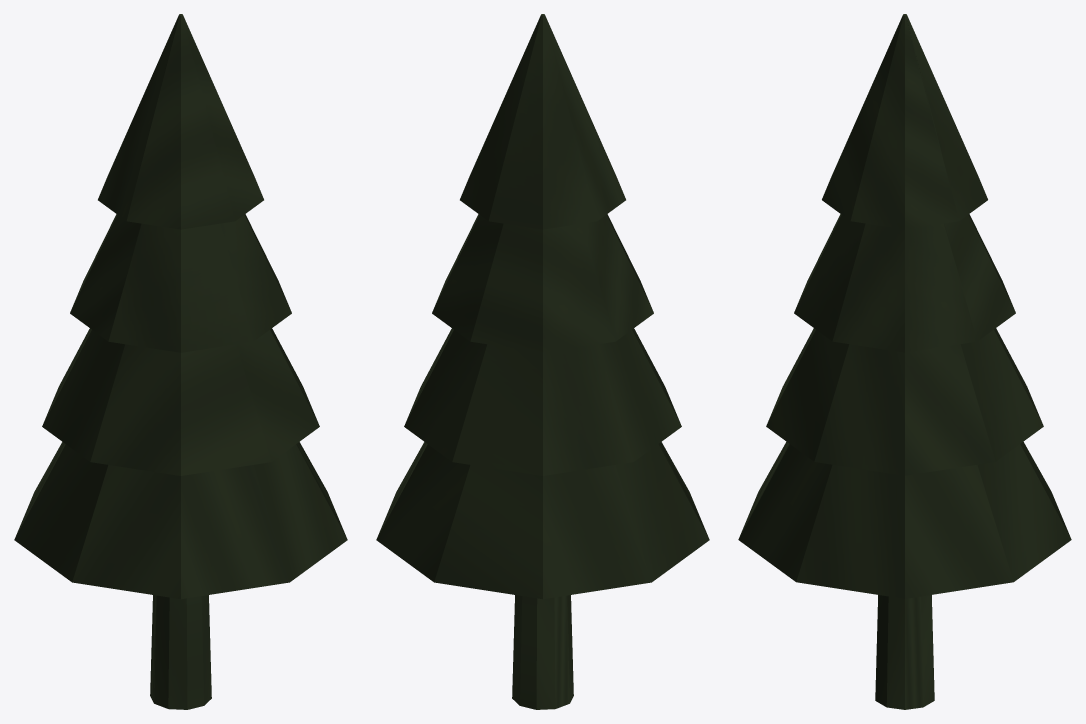
The model's file is prop_fallen_pine_log_a.glb.
The picture shows the model from 3 angles, left to right: view 1: azimuth 30°, elevation 25°; view 2: azimuth 150°, elevation 25°; view 3: azimuth 270°, elevation 25°; orthographic projection.
Visible parts, largest first — view 1: prop_fallen_pine_log_a; view 2: prop_fallen_pine_log_a; view 3: prop_fallen_pine_log_a.
Part boxes in pixels (x1,y1,x2,y2): prop_fallen_pine_log_a: (14, 14, 347, 709); prop_fallen_pine_log_a: (376, 14, 709, 709); prop_fallen_pine_log_a: (738, 14, 1071, 709).
Bounding box in the file's own units: 2.33 × 5.34 × 2.36.
1 material, 1 textured.
